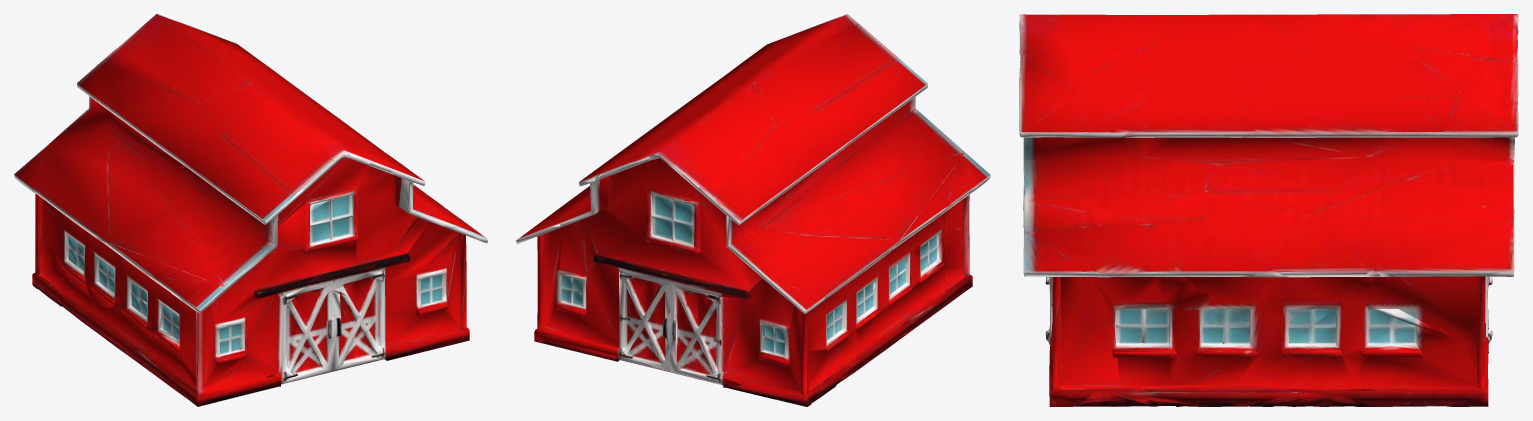
The model's file is barn.glb.
3 renders of one model, left to right at view 1: azimuth 30°, elevation 25°; view 2: azimuth 150°, elevation 25°; view 3: azimuth 270°, elevation 25°, orthographic. The views are drawn at different scales.
Bounding box in the file's own units: 1.69 × 1.29 × 1.91.
1 material, 1 textured.
